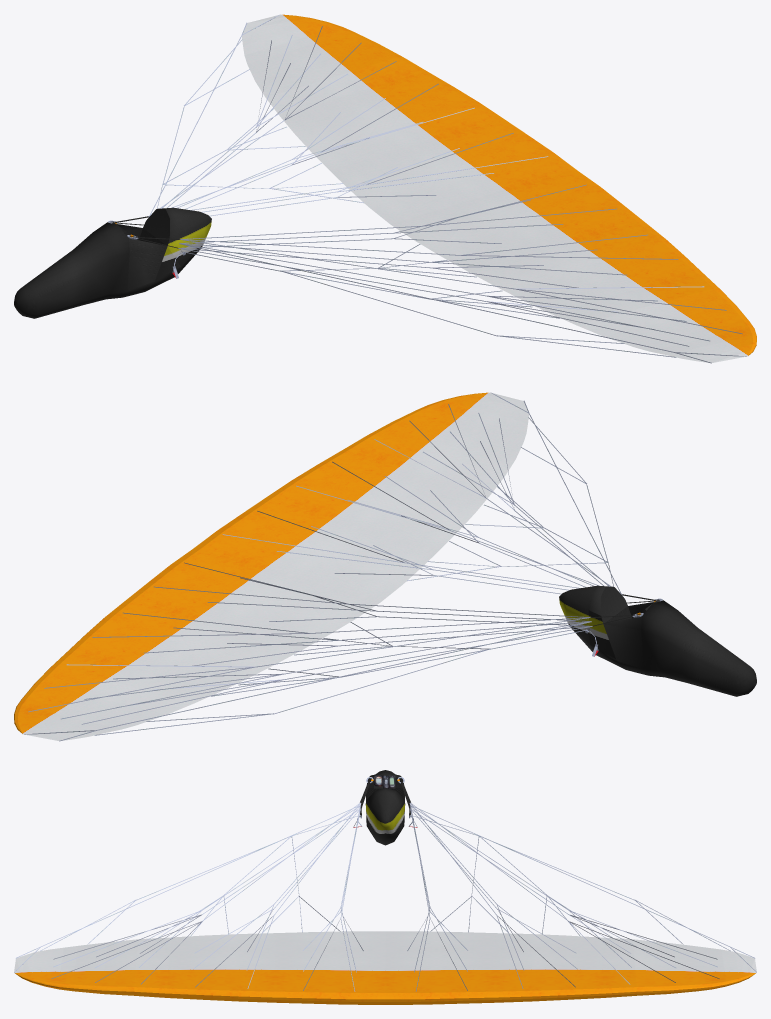
File: paraglider-yellow-launch-cbj_LOD01.gltf
3 renders of one model, top to bottom at view 1: azimuth 30°, elevation 25°; view 2: azimuth 150°, elevation 25°; view 3: azimuth 270°, elevation 25°, orthographic. The views are drawn at different scales.
Visible parts, largest first — view 1: instruments.001; view 2: instruments.001; view 3: instruments.001.
Part boxes in pixels (<box>): instruments.001: <box>14,14,756,363</box>; instruments.001: <box>14,392,756,741</box>; instruments.001: <box>14,770,756,1004</box>.
Size of the model in its own units: 7.71 by 1.08 by 11.07.
